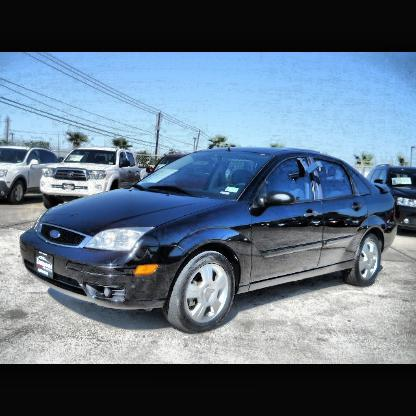Ford Focus Sedan 2007: (21, 148, 400, 341)
